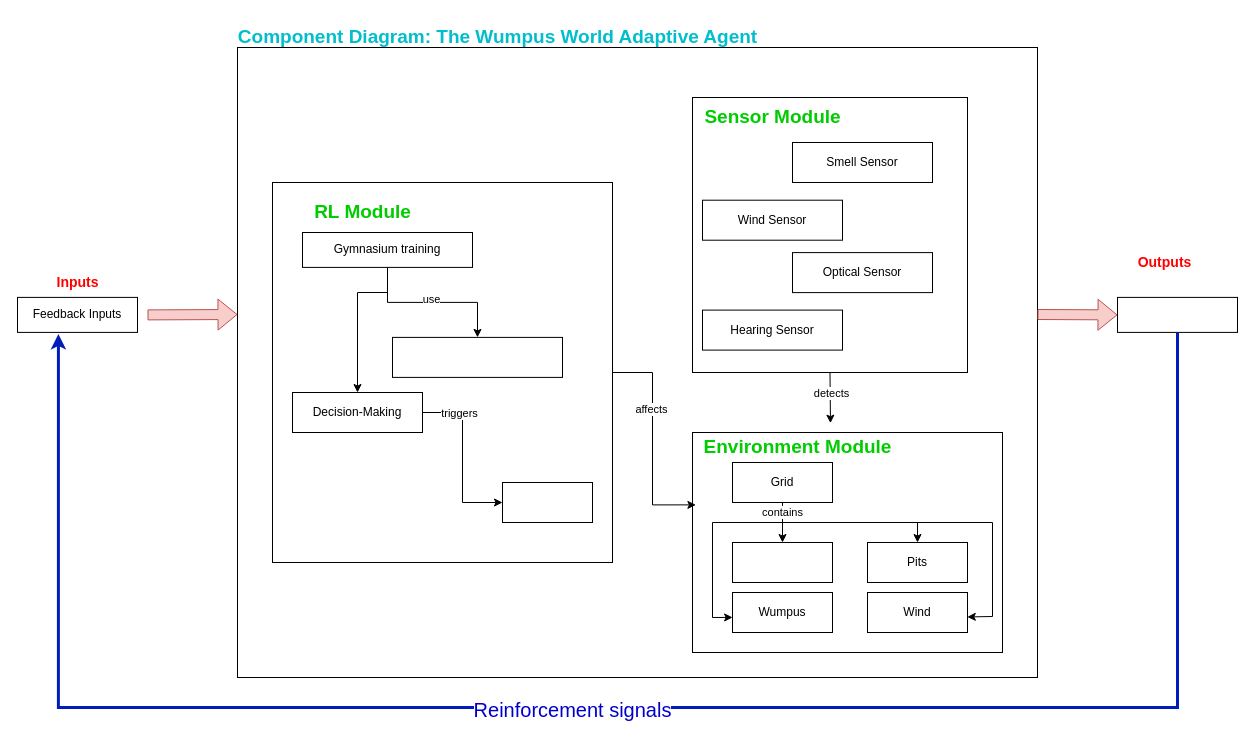
Some shapes in this 1255 by 738 pixel diagram are drawn without their labels. Each missing label, with the box of its shape:
Action: (502, 482, 592, 522)
Gold: (732, 542, 832, 582)
Memory: (392, 336, 562, 377)
Reward: (1116, 296, 1238, 332)
